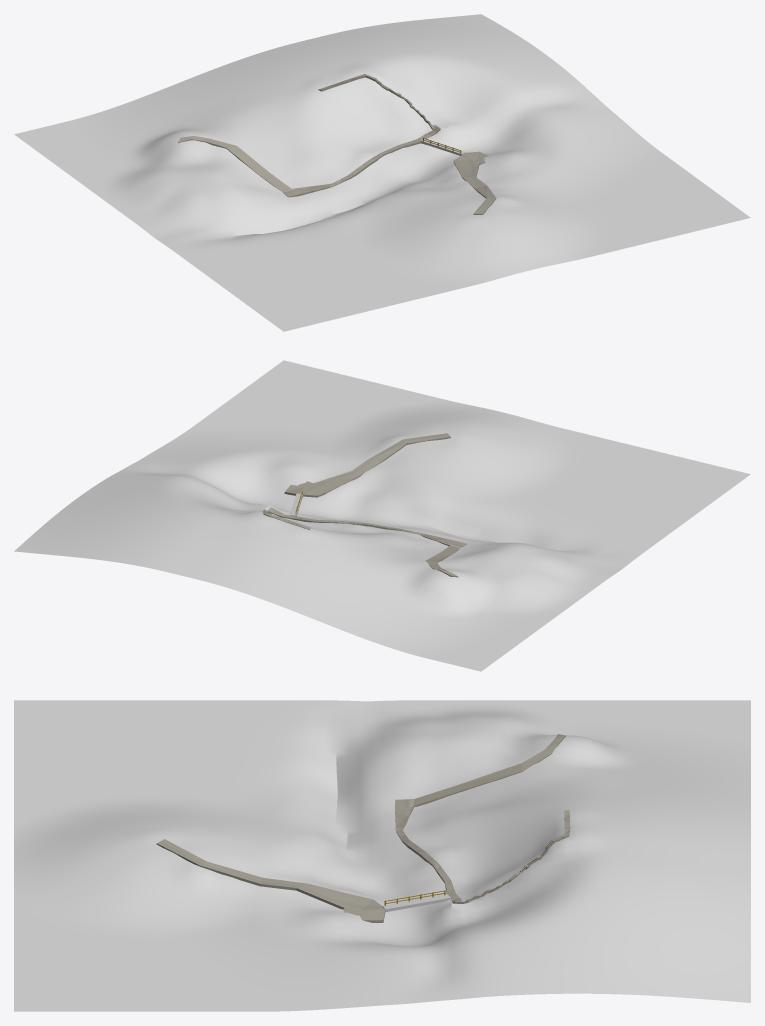
File: ModeloSATIguana.fbx
3 views of the same model, one above another, from view 1: azimuth 30°, elevation 25°; view 2: azimuth 150°, elevation 25°; view 3: azimuth 270°, elevation 25° (orthographic). The views are drawn at different scales.
Parts seen in each view (by area): view 1: Suelo, Camino; view 2: Suelo, Camino; view 3: Suelo, Camino, Puente.
Part boxes in pixels (x1,y1,x2,y2): Suelo: [14, 14, 750, 331]; Camino: [178, 74, 496, 214]; Suelo: [14, 360, 750, 671]; Camino: [263, 433, 466, 577]; Suelo: [14, 700, 750, 1011]; Camino: [156, 734, 570, 922]; Puente: [382, 890, 450, 911].
Size of the model in its own units: 22089 by 2474 by 22088.
